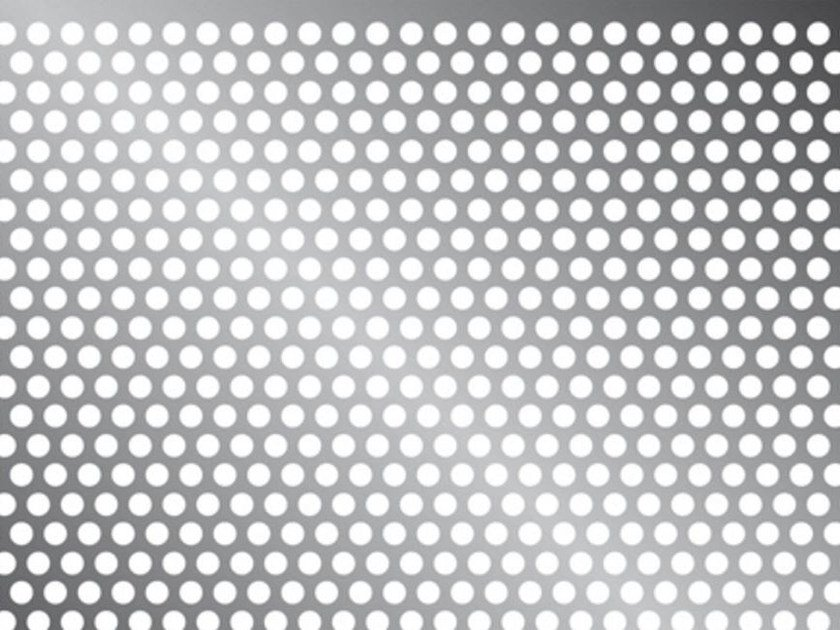Hole: (802, 136, 838, 166), (261, 15, 292, 48), (226, 17, 258, 48), (362, 17, 394, 48), (463, 17, 495, 48), (497, 17, 529, 48), (531, 17, 563, 48), (565, 17, 597, 48), (412, 46, 444, 77), (378, 46, 410, 77), (429, 77, 461, 108), (22, 253, 53, 285), (700, 253, 732, 284), (463, 77, 496, 107), (700, 78, 733, 108), (55, 253, 88, 283), (396, 17, 427, 48), (23, 77, 54, 108), (24, 17, 54, 49), (159, 18, 191, 48), (581, 47, 613, 77), (549, 47, 581, 77), (531, 77, 563, 107), (736, 76, 766, 108), (650, 165, 682, 195), (531, 194, 563, 224), (564, 195, 596, 225), (803, 371, 835, 401), (803, 19, 836, 48), (141, 48, 174, 77), (125, 18, 156, 48), (194, 18, 224, 49), (701, 18, 731, 49), (685, 47, 716, 77), (514, 47, 545, 77), (311, 47, 342, 77), (175, 47, 206, 77), (73, 47, 104, 77), (328, 77, 359, 107), (397, 77, 427, 108), (498, 77, 529, 107), (566, 77, 597, 107), (768, 78, 799, 108), (804, 77, 835, 107), (40, 107, 71, 137), (464, 135, 494, 166), (124, 254, 155, 284), (684, 282, 714, 313), (650, 283, 681, 313), (787, 341, 817, 372), (431, 17, 460, 49), (633, 78, 665, 107), (107, 108, 139, 137), (514, 166, 546, 195), (650, 225, 682, 254), (616, 225, 648, 254), (615, 284, 647, 313), (769, 18, 799, 48), (786, 47, 816, 77), (753, 47, 783, 77), (447, 47, 477, 77), (6, 48, 36, 78), (91, 78, 121, 108), (515, 107, 545, 137), (481, 106, 511, 136), (244, 107, 274, 137), (430, 136, 460, 166), (498, 136, 528, 166), (752, 166, 782, 196), (277, 165, 307, 195), (701, 195, 731, 225), (565, 253, 595, 283), (734, 312, 764, 342), (57, 371, 87, 401), (769, 371, 799, 401), (58, 17, 87, 48), (735, 18, 766, 47), (719, 47, 748, 78), (649, 48, 680, 77), (243, 47, 274, 76), (58, 77, 87, 108), (209, 108, 240, 137), (668, 136, 699, 165), (735, 137, 766, 166), (770, 136, 799, 167), (786, 166, 817, 195), (617, 165, 646, 196), (361, 195, 392, 224), (600, 194, 629, 225), (633, 195, 664, 224), (684, 225, 715, 254), (92, 253, 121, 284), (735, 254, 766, 283), (769, 255, 800, 284), (803, 313, 834, 342), (125, 373, 156, 402), (344, 108, 376, 136), (633, 137, 665, 165), (598, 254, 630, 282), (295, 18, 325, 47), (634, 18, 664, 47), (668, 18, 697, 48), (346, 48, 376, 77), (210, 48, 240, 77), (109, 47, 138, 77), (193, 77, 223, 106), (295, 78, 325, 107), (363, 77, 392, 107), (600, 78, 630, 107), (668, 78, 698, 107), (447, 107, 477, 136), (414, 108, 444, 137), (533, 137, 562, 167), (566, 137, 596, 166), (702, 137, 732, 166), (718, 166, 748, 195), (685, 166, 714, 196), (346, 166, 376, 195), (243, 166, 273, 195), (498, 195, 527, 225), (736, 195, 765, 225), (753, 225, 782, 255), (158, 253, 187, 283), (193, 253, 223, 282), (667, 254, 697, 283), (753, 283, 782, 313), (769, 313, 799, 342), (752, 343, 782, 372), (91, 372, 120, 402), (327, 18, 358, 46), (601, 17, 629, 48), (277, 48, 308, 76), (397, 195, 425, 226), (803, 196, 834, 224), (786, 225, 817, 253), (108, 225, 139, 253), (633, 255, 664, 283), (803, 255, 834, 283), (700, 313, 731, 341), (634, 373, 665, 401), (616, 108, 648, 135), (617, 48, 646, 77), (787, 107, 816, 136), (753, 107, 782, 136), (685, 108, 714, 137), (583, 107, 612, 136), (397, 137, 426, 166), (380, 166, 409, 195), (668, 196, 697, 225), (177, 224, 206, 253), (583, 284, 612, 313), (685, 341, 714, 370), (651, 341, 680, 370), (448, 343, 477, 372), (414, 343, 443, 372), (92, 18, 120, 48), (41, 48, 69, 78), (549, 108, 579, 136), (7, 108, 37, 136), (58, 135, 86, 165), (363, 137, 393, 165), (549, 166, 579, 194), (210, 167, 240, 195), (57, 197, 87, 225), (312, 225, 342, 253), (244, 224, 274, 252), (498, 255, 528, 283), (380, 284, 410, 312), (109, 284, 139, 312), (42, 283, 70, 313), (23, 313, 53, 341), (90, 313, 120, 341), (194, 313, 224, 341), (226, 313, 256, 341), (583, 343, 613, 371), (312, 343, 342, 371), (75, 342, 103, 372), (40, 343, 70, 371), (23, 372, 53, 400), (277, 108, 308, 135), (176, 108, 207, 135), (23, 137, 54, 164), (311, 167, 342, 194), (91, 197, 122, 224), (549, 226, 580, 253), (209, 225, 240, 252), (616, 343, 647, 370), (243, 343, 274, 370), (532, 373, 563, 400), (482, 48, 511, 76), (126, 77, 154, 106), (159, 78, 188, 106), (228, 78, 256, 107), (262, 78, 290, 107), (652, 107, 680, 136), (379, 108, 408, 136), (312, 108, 341, 136), (143, 107, 171, 136), (91, 137, 120, 165), (125, 137, 154, 165), (194, 137, 222, 166), (295, 137, 324, 165), (329, 137, 358, 165), (482, 166, 510, 195), (142, 167, 171, 195), (24, 196, 53, 224), (328, 196, 357, 224), (431, 196, 460, 224), (769, 196, 798, 224), (719, 225, 747, 254), (583, 225, 612, 253), (295, 255, 324, 283), (431, 255, 460, 283), (720, 283, 749, 311), (346, 284, 375, 312), (210, 284, 239, 312), (7, 283, 36, 311), (58, 313, 86, 342), (295, 313, 324, 341), (718, 342, 747, 370), (346, 343, 374, 372), (143, 342, 171, 371), (109, 343, 138, 371), (8, 342, 36, 371), (193, 373, 222, 401), (262, 372, 290, 401), (329, 373, 358, 401), (499, 372, 527, 401), (600, 373, 629, 401), (668, 372, 697, 400), (736, 372, 765, 400), (718, 108, 748, 135), (261, 137, 291, 164), (40, 167, 70, 194), (294, 197, 324, 224), (142, 225, 172, 252), (396, 255, 426, 282), (515, 284, 545, 311), (261, 314, 291, 341), (396, 314, 426, 341), (464, 373, 494, 400), (412, 167, 443, 193), (227, 137, 255, 165), (262, 196, 290, 224), (516, 225, 544, 253), (465, 255, 493, 283), (482, 284, 510, 312), (177, 284, 205, 312), (143, 284, 171, 312), (431, 313, 459, 341), (635, 313, 663, 341), (211, 343, 239, 371), (177, 343, 205, 371), (228, 373, 256, 401), (703, 372, 731, 400), (159, 137, 188, 164), (601, 137, 630, 164), (583, 167, 612, 194), (227, 197, 256, 224), (465, 196, 494, 223), (448, 225, 477, 252), (41, 225, 70, 252), (311, 284, 340, 311), (75, 285, 104, 312), (159, 374, 188, 401), (125, 196, 155, 222), (787, 284, 817, 310), (75, 107, 103, 134), (448, 167, 476, 194), (7, 167, 35, 194), (194, 197, 222, 224), (415, 226, 443, 253), (7, 225, 35, 252), (228, 256, 256, 283), (262, 255, 290, 282), (159, 314, 187, 341), (499, 314, 527, 341), (534, 314, 561, 342), (567, 314, 595, 341), (483, 343, 510, 371), (381, 343, 408, 371), (279, 344, 307, 371), (296, 373, 323, 401), (364, 373, 392, 400), (398, 373, 425, 401), (431, 373, 459, 400), (566, 372, 594, 399), (380, 226, 409, 252), (534, 255, 561, 282), (449, 284, 476, 311), (245, 285, 272, 312), (127, 314, 154, 341), (331, 314, 358, 341), (364, 314, 391, 341), (517, 343, 544, 370), (109, 167, 137, 193), (160, 197, 188, 223), (483, 226, 511, 252), (76, 225, 102, 253), (414, 285, 442, 311), (465, 315, 493, 341), (601, 315, 629, 341), (346, 226, 375, 251), (77, 167, 103, 194), (177, 168, 204, 194), (551, 285, 578, 311), (279, 285, 306, 311), (670, 313, 696, 340), (551, 343, 577, 370), (279, 226, 307, 251), (363, 256, 391, 281), (331, 256, 357, 282)
